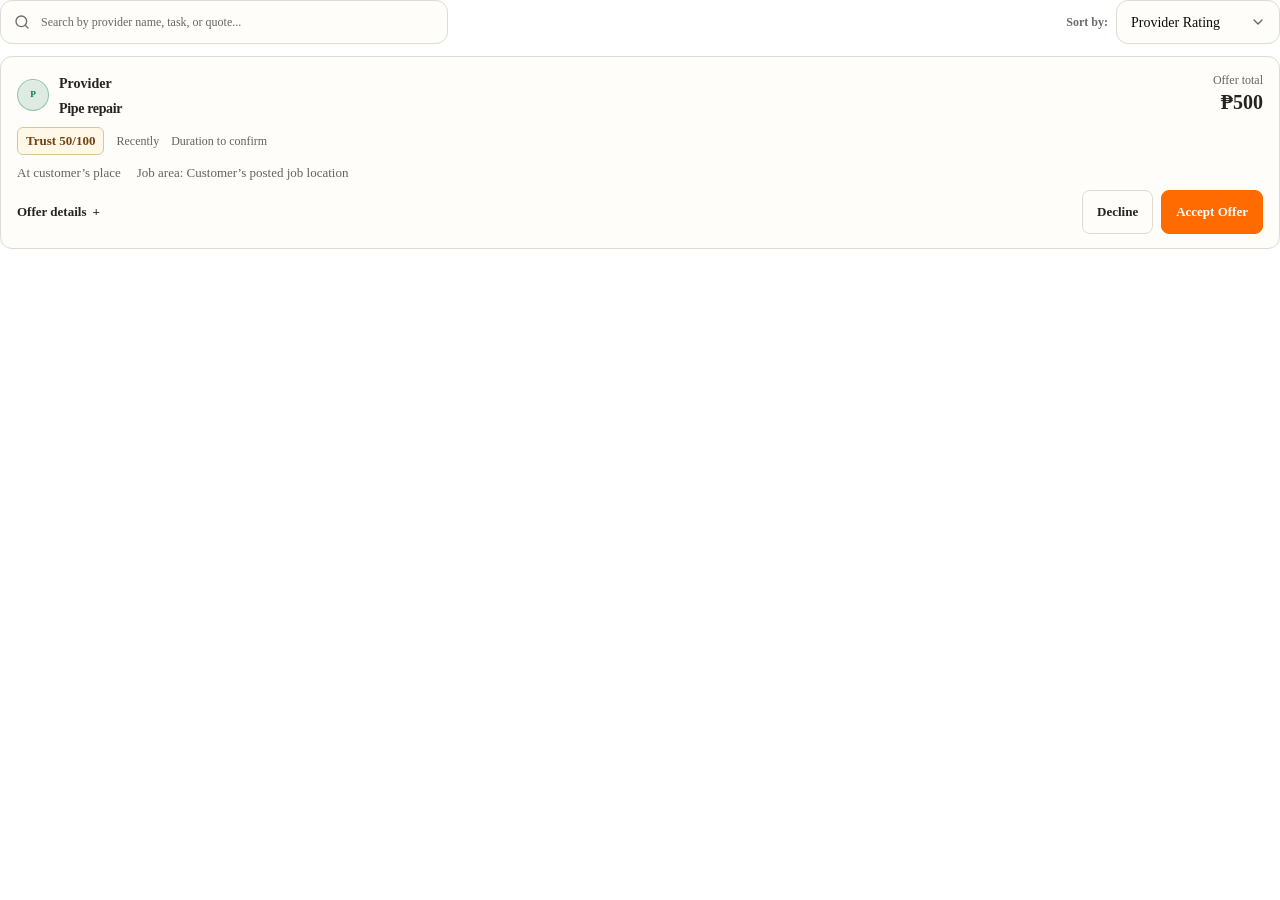
Test: payment selected when requesting a listing › uses the received offer preferences while the request list is still loading
The image size is (1280, 900).
Click the button "Accept Offer": (1212, 212) [1161, 190, 1263, 234]
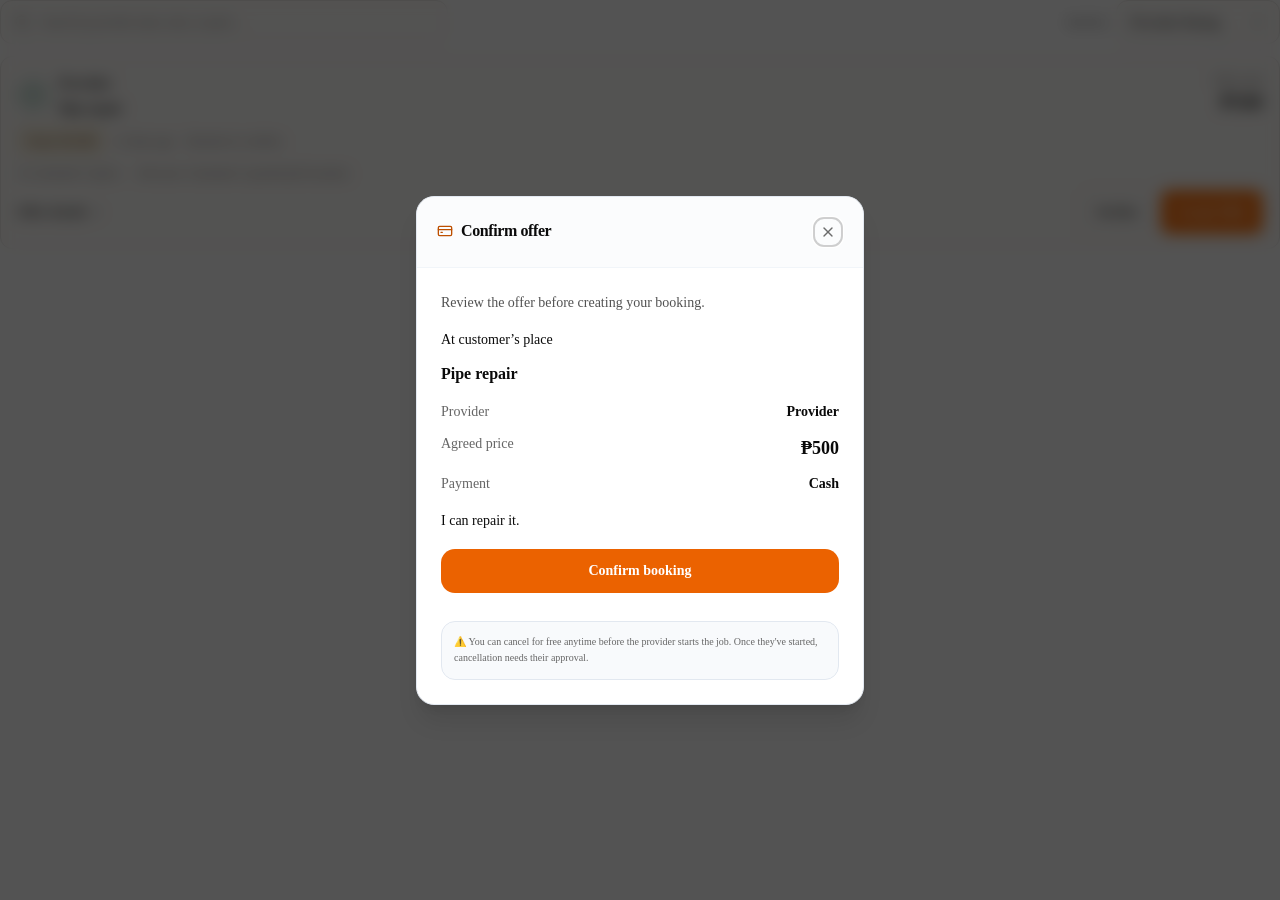
Check: the button "Confirm booking" is shown, box [441, 549, 839, 593]
Check: the dialog shows "Cash", box [809, 476, 839, 491]
